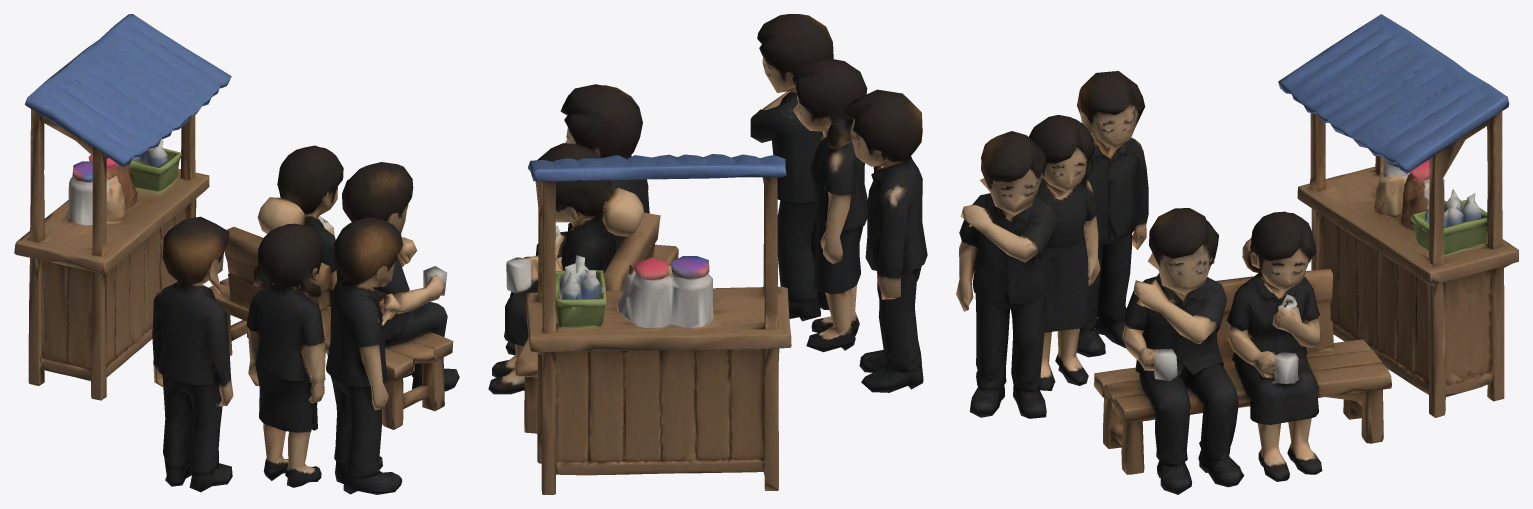
The model's file is Pagpag-512(10k).glb.
3 renders of one model, left to right at view 1: azimuth 30°, elevation 25°; view 2: azimuth 150°, elevation 25°; view 3: azimuth 270°, elevation 25°, orthographic. The views are drawn at different scales.
Visible parts, largest first — view 1: tripo_node_ab148980-7073-474b-b3d8-34ac61b56fe7; view 2: tripo_node_ab148980-7073-474b-b3d8-34ac61b56fe7; view 3: tripo_node_ab148980-7073-474b-b3d8-34ac61b56fe7.
Part boxes in pixels (bbox=[...]): tripo_node_ab148980-7073-474b-b3d8-34ac61b56fe7: bbox=[14, 14, 459, 494]; tripo_node_ab148980-7073-474b-b3d8-34ac61b56fe7: bbox=[488, 14, 927, 494]; tripo_node_ab148980-7073-474b-b3d8-34ac61b56fe7: bbox=[956, 14, 1518, 494].
Size of the model in its own units: 0.7277 by 0.5971 by 0.9811.
1 material, 1 textured.
